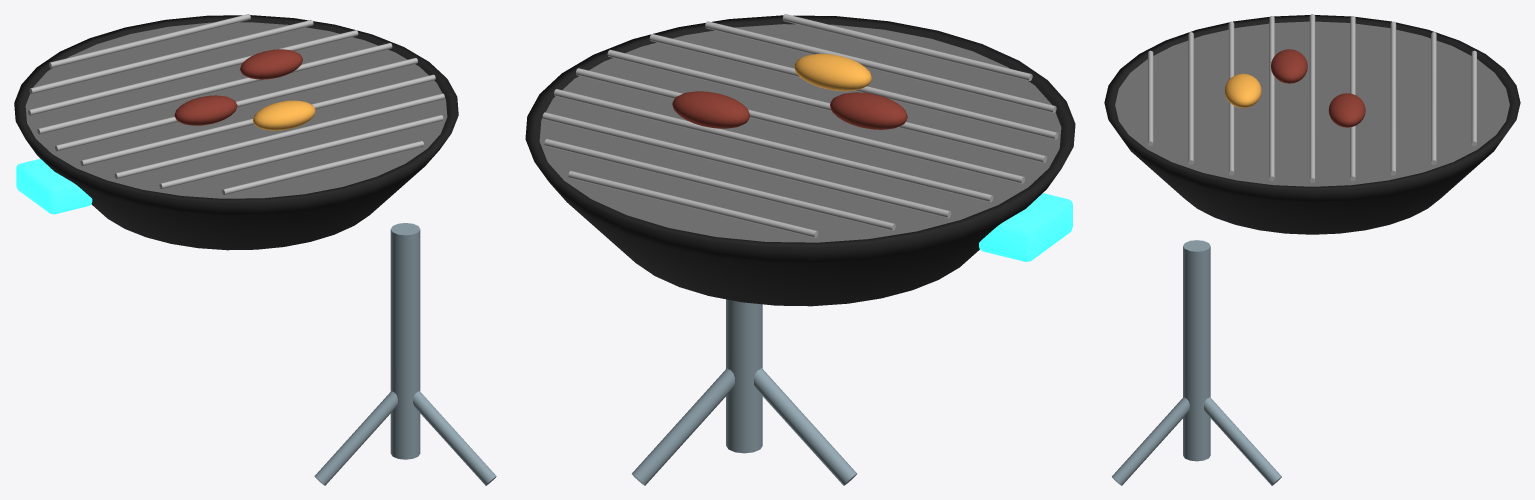
The model's file is grill.fbx.
The picture shows the model from 3 angles, left to right: view 1: azimuth 30°, elevation 25°; view 2: azimuth 150°, elevation 25°; view 3: azimuth 270°, elevation 25°; orthographic projection. The views are drawn at different scales.
Visible parts, largest first — view 1: Dad's New Grill; view 2: Dad's New Grill; view 3: Dad's New Grill.
Boxes of the visible parts, x1,y1,x2,y2 form: Dad's New Grill: (14,14,496,485); Dad's New Grill: (525,14,1075,485); Dad's New Grill: (1104,14,1520,485).
Bounding box in the file's own units: 1.85 × 1.63 × 1.8.
